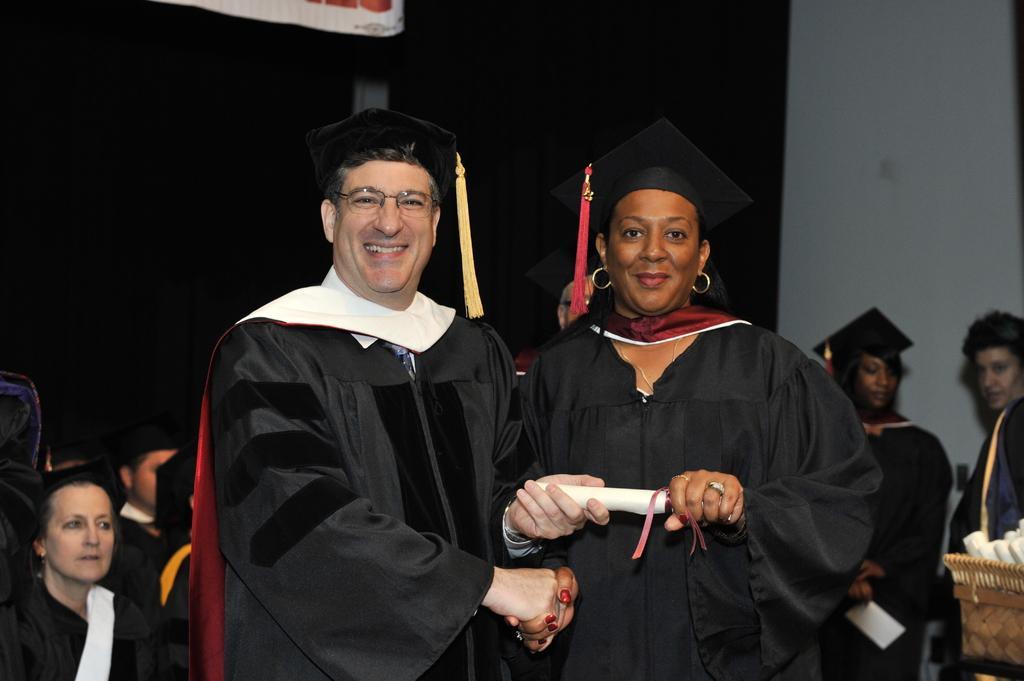Sem Máscara: (330, 157, 427, 291), (601, 186, 695, 309), (44, 484, 107, 580), (973, 347, 1022, 407), (127, 446, 175, 507), (851, 351, 894, 406)
